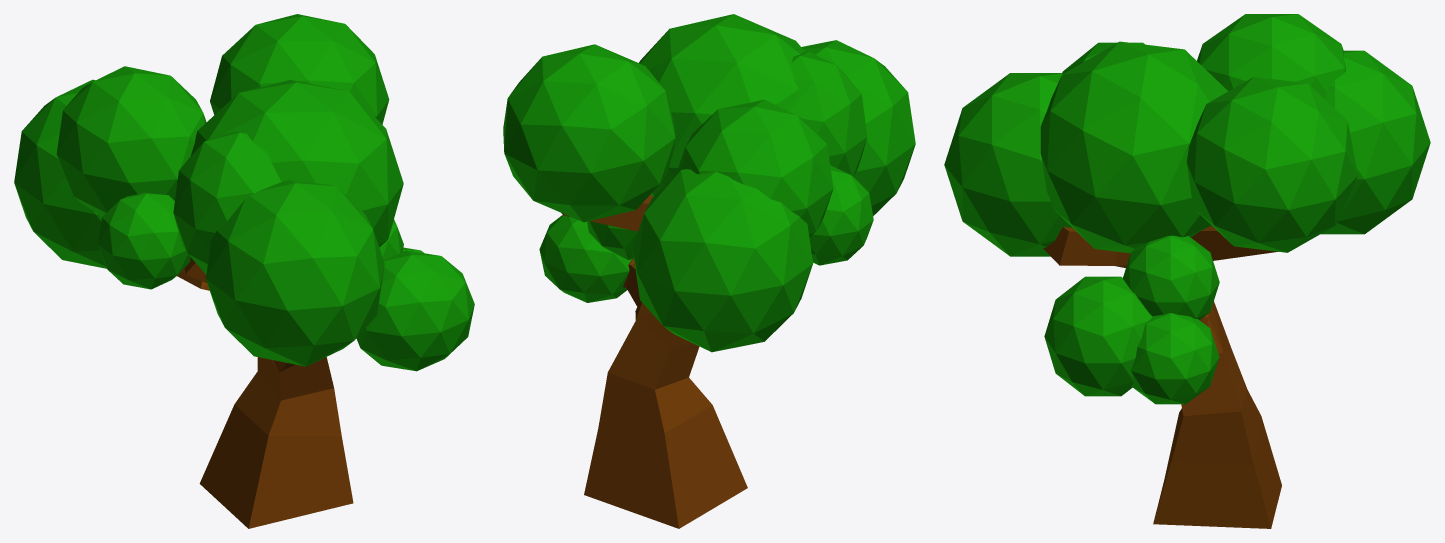
File: tree3fix.fbx
The picture shows the model from 3 angles, left to right: view 1: azimuth 30°, elevation 25°; view 2: azimuth 150°, elevation 25°; view 3: azimuth 270°, elevation 25°; orthographic projection.
Visible parts, largest first — view 1: Icosphere.002, Cube, Icosphere.009, Icosphere.001, Icosphere.006, Icosphere.004, Icosphere, Icosphere.008, Icosphere.007; view 2: Icosphere, Icosphere.006, Cube, Icosphere.009, Icosphere.001, Icosphere.002, Icosphere.008, Icosphere.003, Icosphere.007, Icosphere.005; view 3: Icosphere.009, Icosphere.006, Cube, Icosphere.002, Icosphere, Icosphere.004, Icosphere.001, Icosphere.003, Icosphere.005.
Boxes of the visible parts, x1,y1,x2,y2 form: Icosphere.002: (206,180,384,366); Cube: (177,257,353,528); Icosphere.009: (191,79,403,246); Icosphere.001: (56,66,206,217); Icosphere.006: (210,14,389,124); Icosphere.004: (356,250,474,371); Icosphere: (14,79,106,268); Icosphere.008: (173,131,281,274); Icosphere.007: (97,192,190,289); Icosphere: (632,169,813,352); Icosphere.006: (503,44,675,222); Cube: (561,194,747,528); Icosphere.009: (639,14,805,196); Icosphere.001: (676,99,833,237); Icosphere.002: (801,40,915,215); Icosphere.008: (787,51,867,176); Icosphere.003: (539,215,631,302); Icosphere.007: (809,165,873,265); Icosphere.005: (587,221,637,259); Icosphere.009: (1040,41,1228,253); Icosphere.006: (1186,77,1357,252); Cube: (1043,225,1281,528); Icosphere.002: (944,73,1071,256); Icosphere: (1321,50,1430,234); Icosphere.004: (1044,276,1152,396); Icosphere.001: (1197,14,1345,98); Icosphere.003: (1131,313,1219,404); Icosphere.005: (1123,235,1219,319).
Size of the model in its own units: 329 by 423 by 417.
